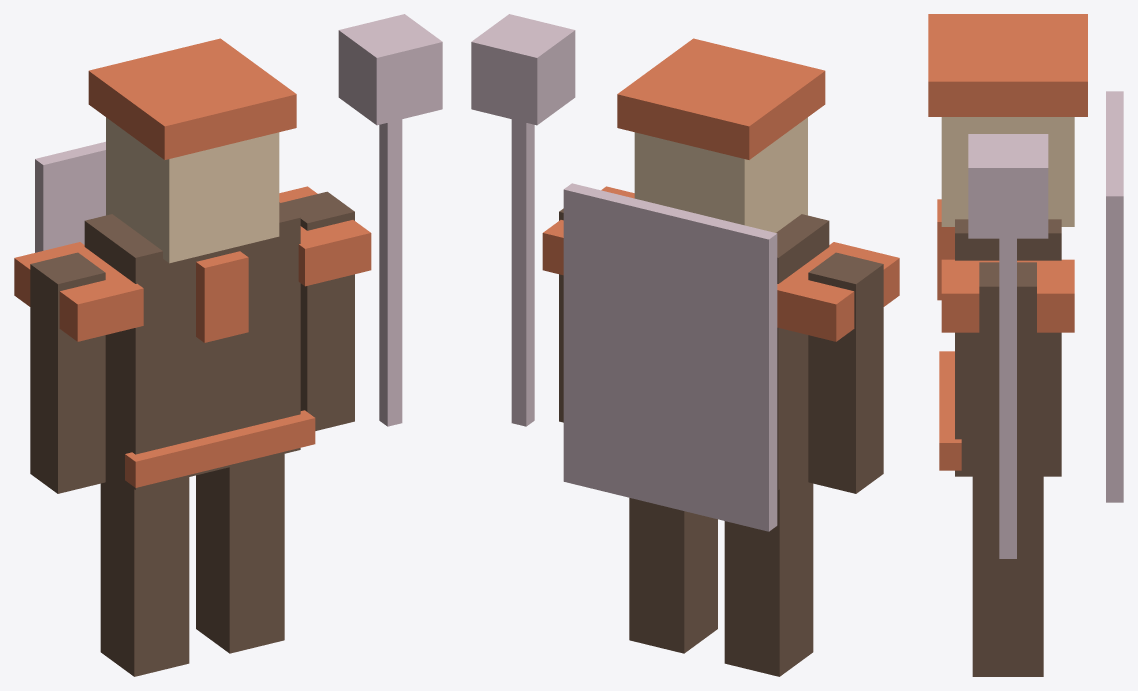
The model's file is 13_mirek_gantryn_navigator_of_retrieval.glb.
The picture shows the model from 3 angles, left to right: view 1: azimuth 30°, elevation 25°; view 2: azimuth 150°, elevation 25°; view 3: azimuth 270°, elevation 25°; orthographic projection. The views are drawn at different scales.
Visible parts, largest first — view 1: Mirek Gantryn, Navigator of Retrieval; view 2: Mirek Gantryn, Navigator of Retrieval; view 3: Mirek Gantryn, Navigator of Retrieval.
Part boxes in pixels (x1,y1,x2,y2): Mirek Gantryn, Navigator of Retrieval: (14,14,442,676); Mirek Gantryn, Navigator of Retrieval: (471,14,899,676); Mirek Gantryn, Navigator of Retrieval: (928,14,1123,676).
Bounding box in the file's own units: 1 × 1.42 × 0.4255.
